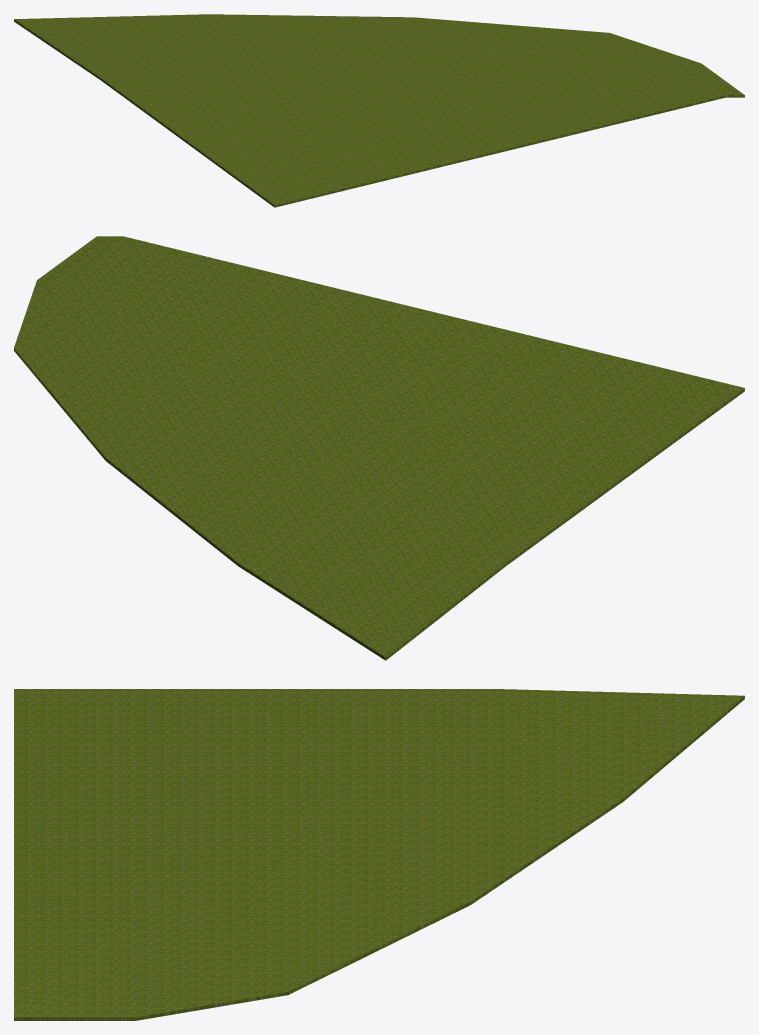
3 views of the same model, one above another, from view 1: azimuth 30°, elevation 25°; view 2: azimuth 150°, elevation 25°; view 3: azimuth 270°, elevation 25° (orthographic). The views are drawn at different scales.
Visible parts, largest first — view 1: d2_base_plate-col; view 2: d2_base_plate-col; view 3: d2_base_plate-col.
Part boxes in pixels (x1,y1,x2,y2): d2_base_plate-col: (14, 14, 744, 207); d2_base_plate-col: (14, 236, 744, 660); d2_base_plate-col: (14, 689, 744, 1020).
Size of the model in its own units: 200 by 2.92 by 192.
Materials: 1 (1 with a texture image).
